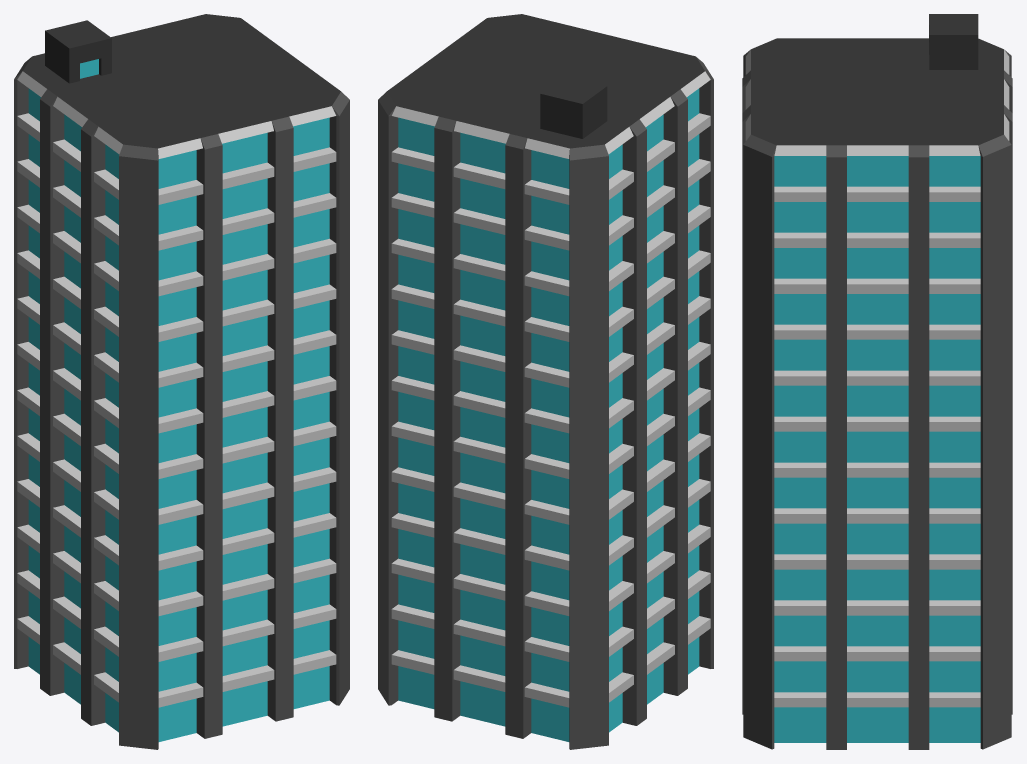
File: building.obj
3 renders of one model, left to right at view 1: azimuth 30°, elevation 25°; view 2: azimuth 150°, elevation 25°; view 3: azimuth 270°, elevation 25°, orthographic.
Visible parts, largest first — view 1: 立方体; view 2: 立方体; view 3: 立方体.
Part boxes in pixels (left/top/right/bottom): 立方体: left=14, top=14, right=349, bottom=749; 立方体: left=378, top=14, right=713, bottom=749; 立方体: left=742, top=14, right=1012, bottom=749.
Bounding box in the file's own units: 20.5 × 53.26 × 20.5.
Materials: 1 (1 with a texture image).
